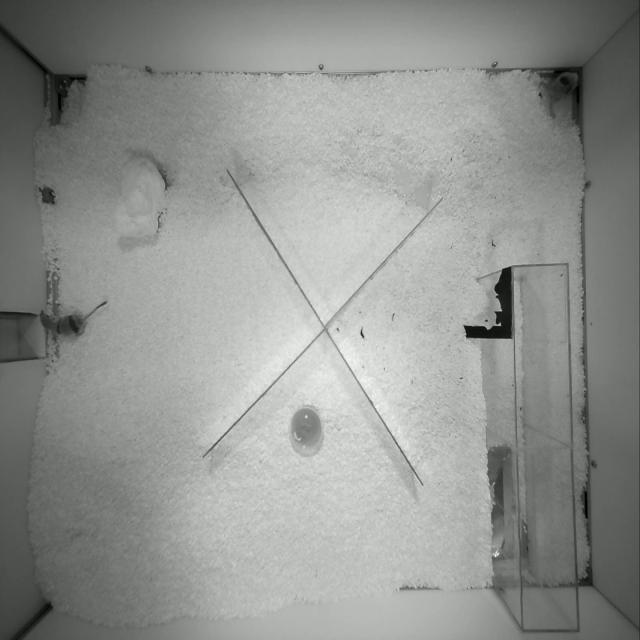pup_h_stripe: (40, 301, 106, 335)
pup_spotted: (539, 72, 578, 117)
